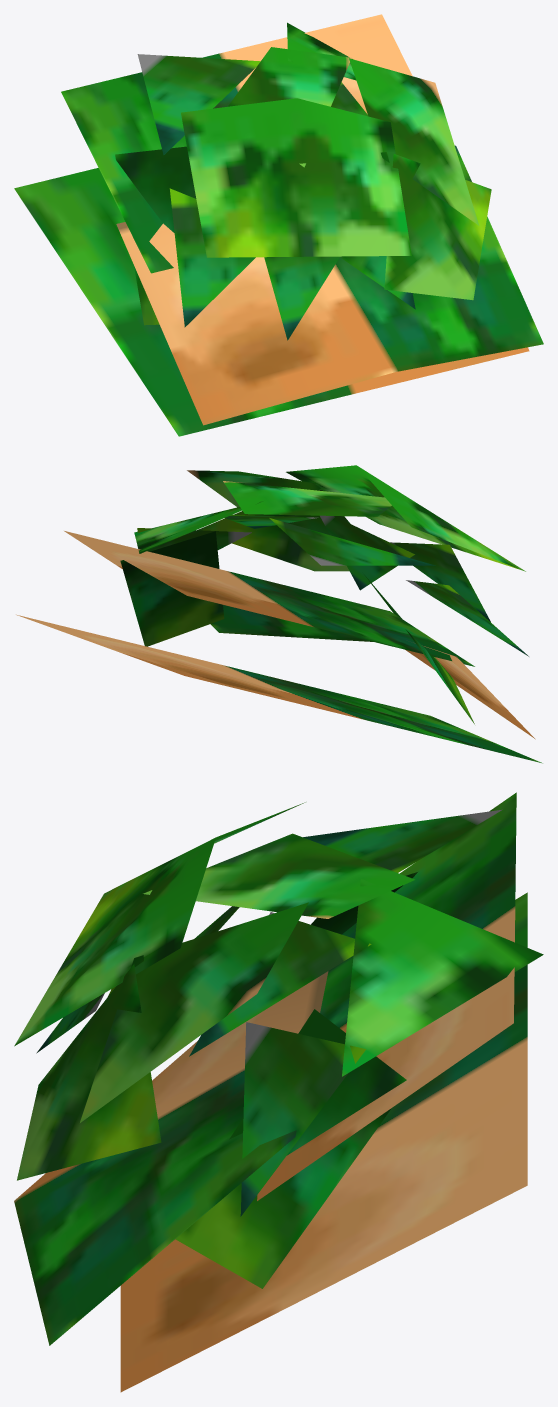
The model's file is fg_bushD_2_ye.dae.
3 renders of one model, top to bottom at view 1: azimuth 30°, elevation 25°; view 2: azimuth 150°, elevation 25°; view 3: azimuth 270°, elevation 25°, orthographic. The views are drawn at different scales.
Parts seen in each view (by area): view 1: fg_bushD_2_ye; view 2: fg_bushD_2_ye; view 3: fg_bushD_2_ye.
Part boxes in pixels (x1=…): fg_bushD_2_ye: x1=14, y1=14, x2=543, y2=436; fg_bushD_2_ye: x1=16, y1=465, x2=542, y2=763; fg_bushD_2_ye: x1=14, y1=792, x2=543, y2=1392.
Size of the model in its own units: 47.83 by 31.26 by 36.53.
Materials: 1 (1 with a texture image).
